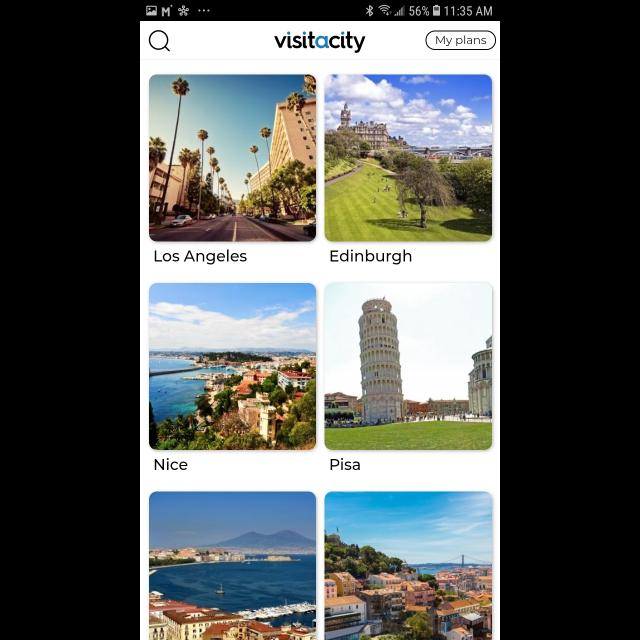icon: (149, 30, 171, 52)
image: (324, 284, 492, 451), (324, 75, 492, 242), (150, 74, 316, 242), (150, 284, 316, 451), (149, 491, 316, 640), (324, 492, 492, 640), (274, 31, 366, 53)
text: (155, 250, 247, 266), (331, 250, 412, 266), (156, 458, 188, 470), (331, 458, 361, 470)
textbutton: (426, 31, 496, 51)
uppertaskbar: (140, 1, 500, 22)
